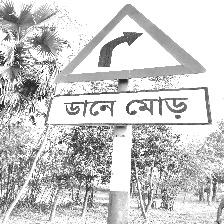Right-turn: (52, 3, 212, 127)
